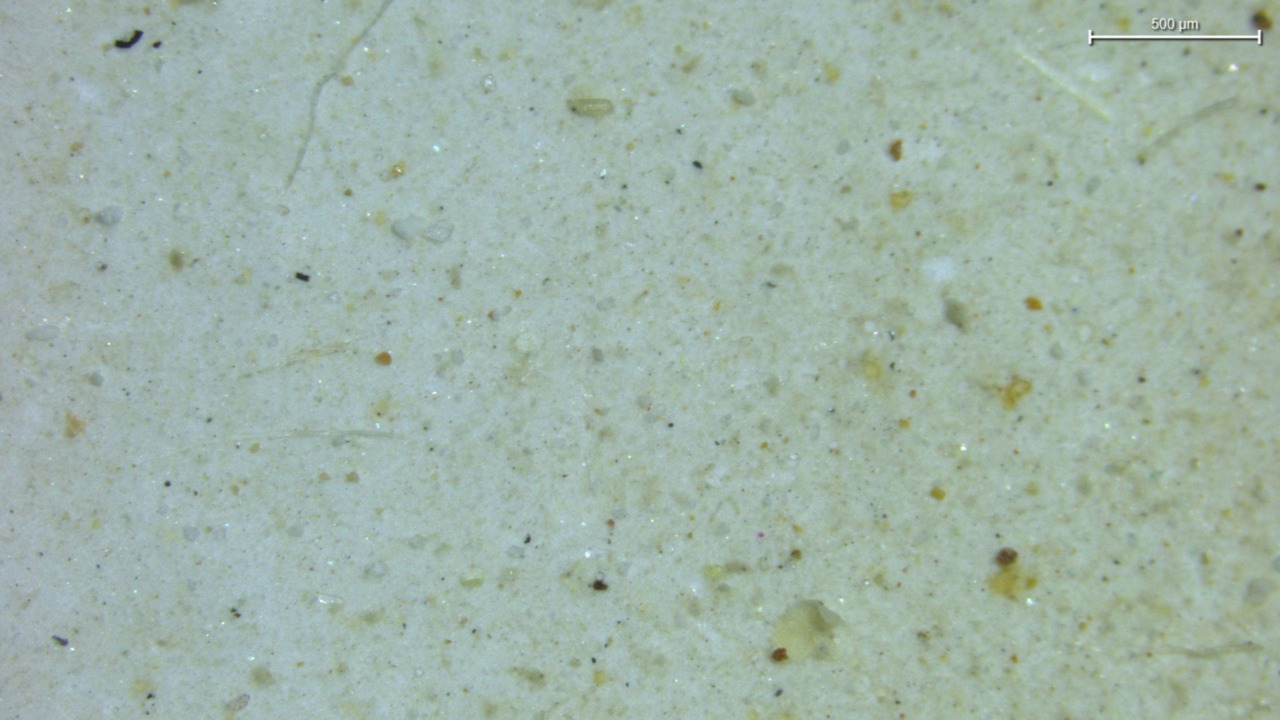microplastic_fragment: (391, 216, 454, 244), (567, 97, 613, 118)
